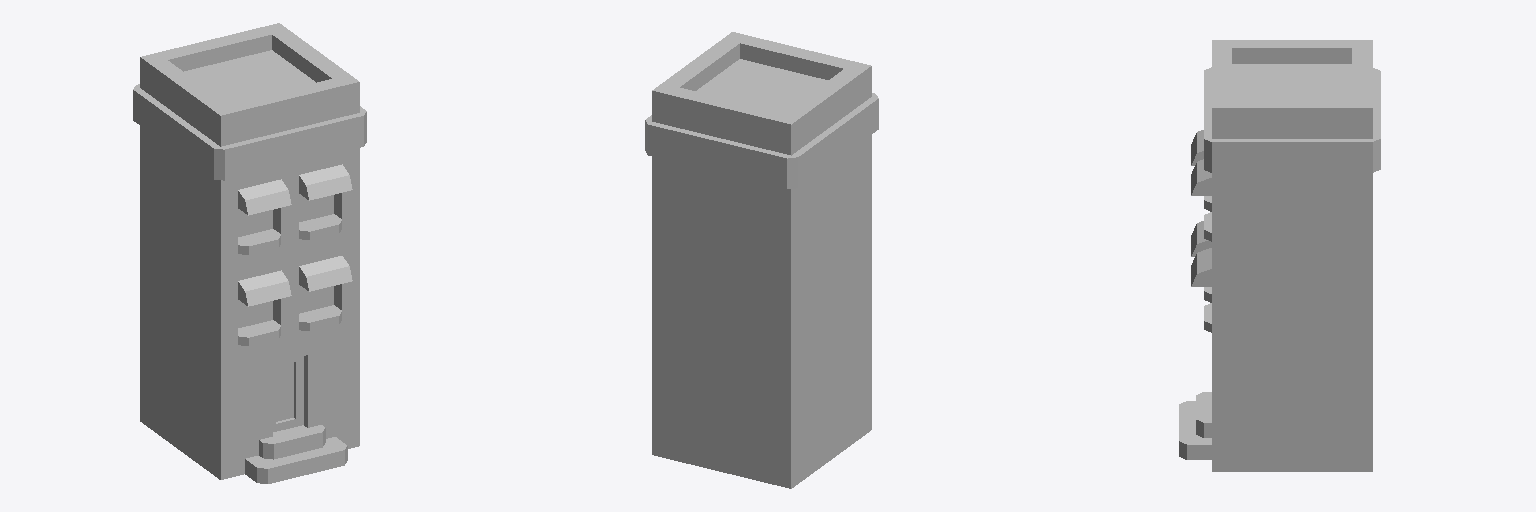
The model's file is building-sample-tower-a.obj.
3 renders of one model, left to right at view 1: azimuth 30°, elevation 25°; view 2: azimuth 150°, elevation 25°; view 3: azimuth 270°, elevation 25°, orthographic.
Visible parts, largest first — view 1: building-sample-tower-a; view 2: building-sample-tower-a; view 3: building-sample-tower-a.
Part boxes in pixels (x1,y1,x2,y2): building-sample-tower-a: (133,23,366,483); building-sample-tower-a: (645,32,878,488); building-sample-tower-a: (1179,40,1380,471).
Size of the model in its own units: 1.1 by 2.5 by 1.25.